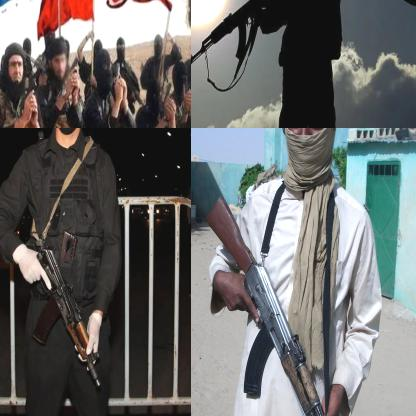rifle: (205, 192, 342, 415), (28, 248, 104, 394), (191, 0, 289, 77)
